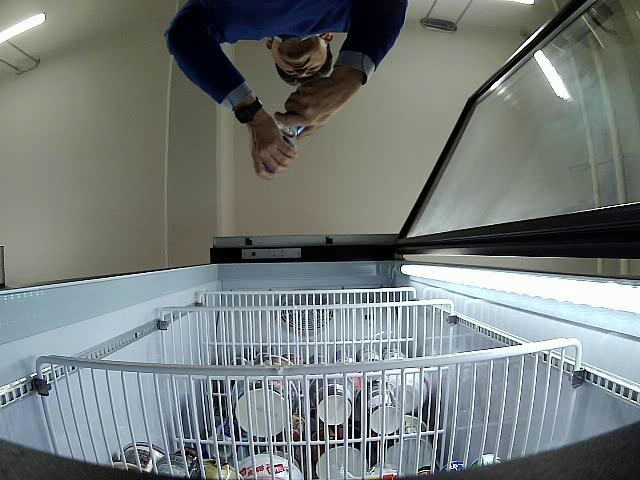00_hand: (275, 74, 363, 139), (247, 122, 297, 179)
